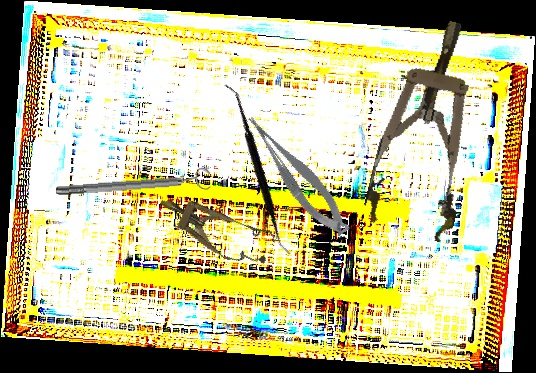Fixation Ring: (55, 166, 212, 203)
Micro Scissor: (242, 103, 354, 246)
Spatula Surgical: (167, 83, 348, 256)
Speculum: (359, 11, 502, 245), (150, 181, 280, 275)
